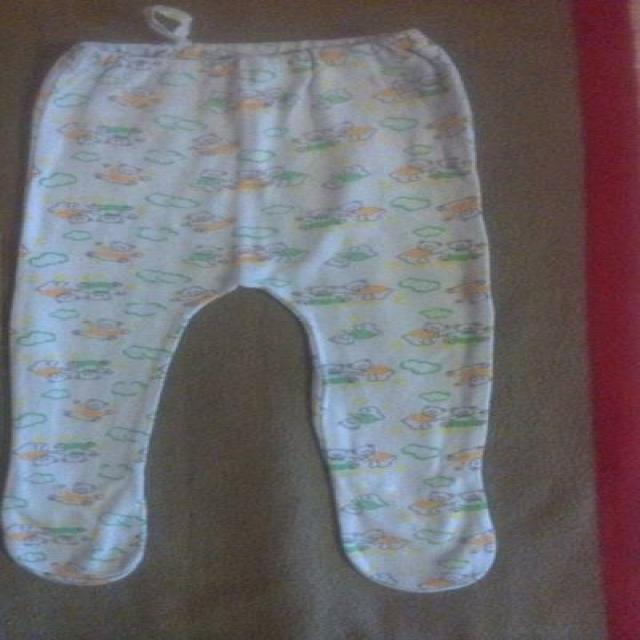Clothes -Biodegradable-: (0, 28, 492, 589)
